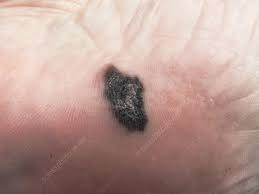melanoma: (84, 53, 172, 147)
